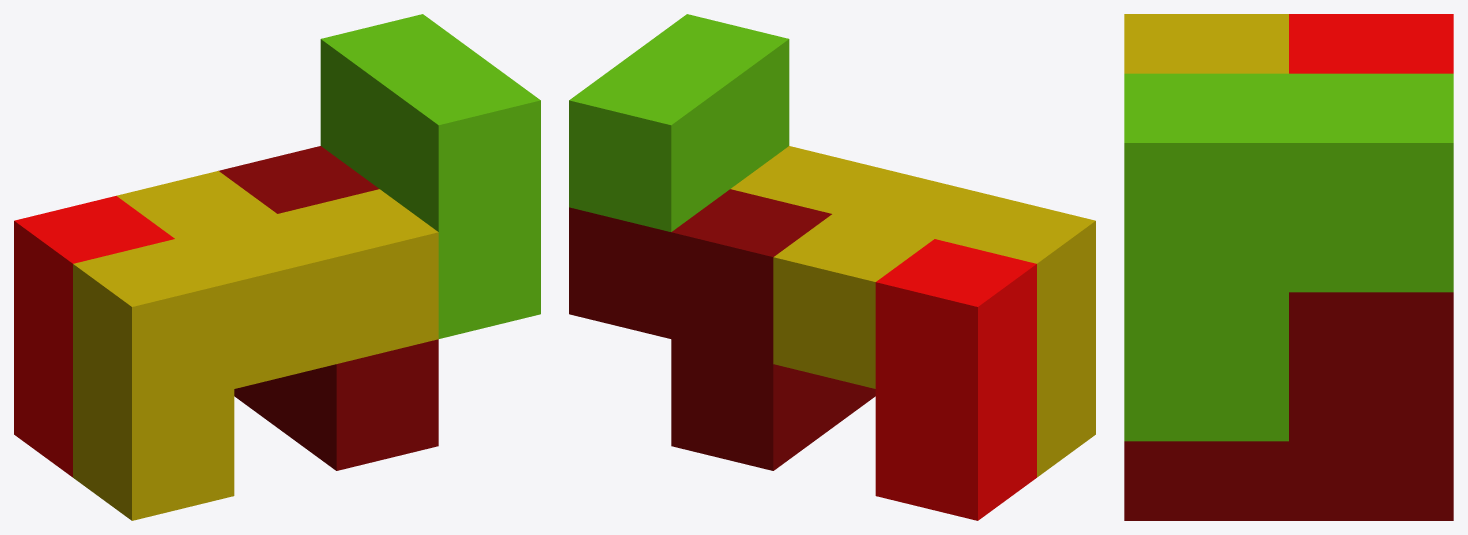
3 renders of one model, left to right at view 1: azimuth 30°, elevation 25°; view 2: azimuth 150°, elevation 25°; view 3: azimuth 270°, elevation 25°, orthographic. The views are drawn at different scales.
Visible parts, largest first — view 1: mergedBlocks(Clone); view 2: mergedBlocks(Clone); view 3: mergedBlocks(Clone).
Boxes of the visible parts, <box> form: mergedBlocks(Clone): <box>14,14,540,520</box>; mergedBlocks(Clone): <box>569,14,1095,520</box>; mergedBlocks(Clone): <box>1124,14,1453,520</box>.
Bounding box in the file's own units: 4 × 3 × 2.
Materials: 4 (4 with a texture image).
